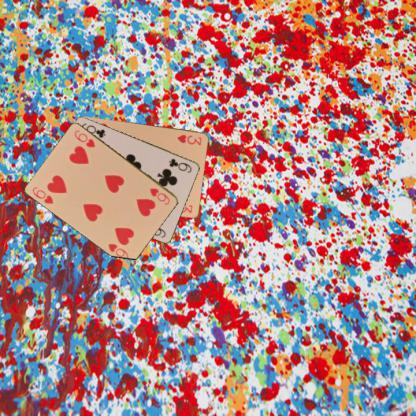3h: (174, 132, 203, 146)
6c: (166, 156, 193, 174)
6h: (30, 184, 55, 205), (147, 186, 171, 206)
